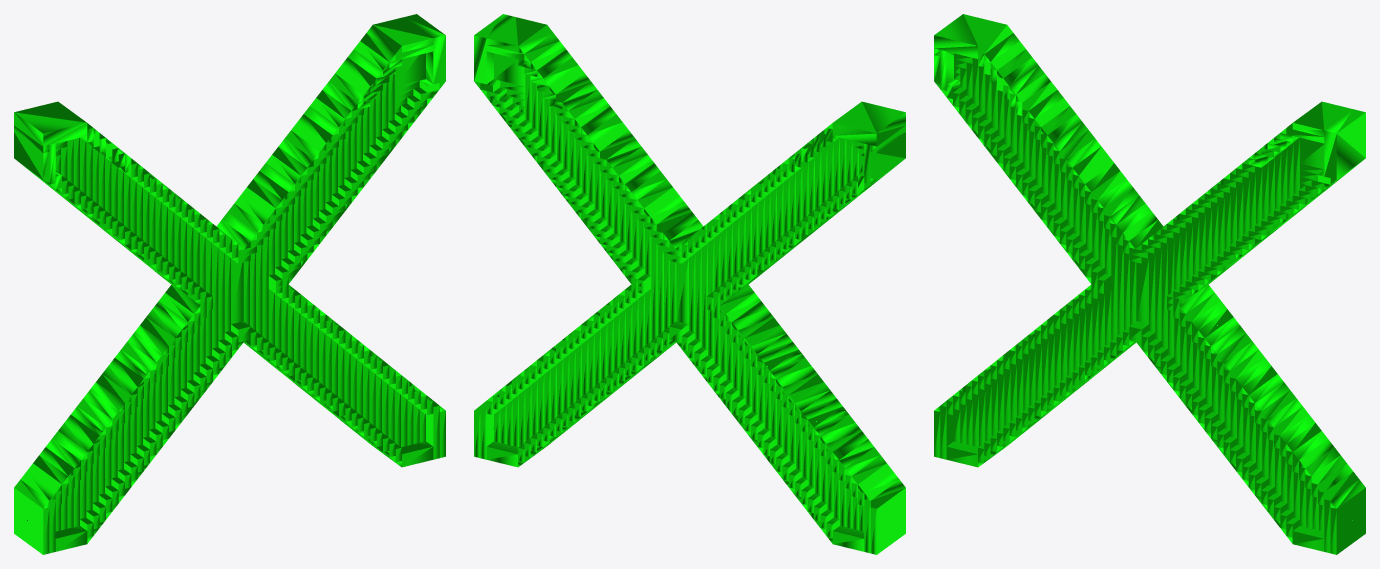
The picture shows the model from 3 angles, left to right: view 1: azimuth 30°, elevation 25°; view 2: azimuth 150°, elevation 25°; view 3: azimuth 330°, elevation 25°; orthographic projection.
Visible parts, largest first — view 1: generated; view 2: generated; view 3: generated.
Part boxes in pixels (box(x1,y1,x2,y2)): generated: box(14, 14, 445, 554); generated: box(474, 14, 905, 554); generated: box(934, 14, 1365, 554).
Bounding box in the file's own units: 640 × 640 × 80.
